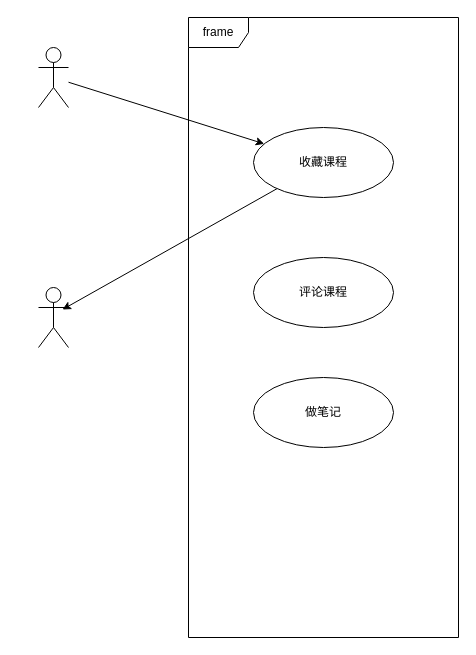
Image size: 476x655. Some labels were removed from this diagram. The shapes that lost their labels are listed below. From the top down, each one's centre as x and y in pixels, then its label:
At [53,77]: "用户".
At [53,317]: "课程收藏列表".
